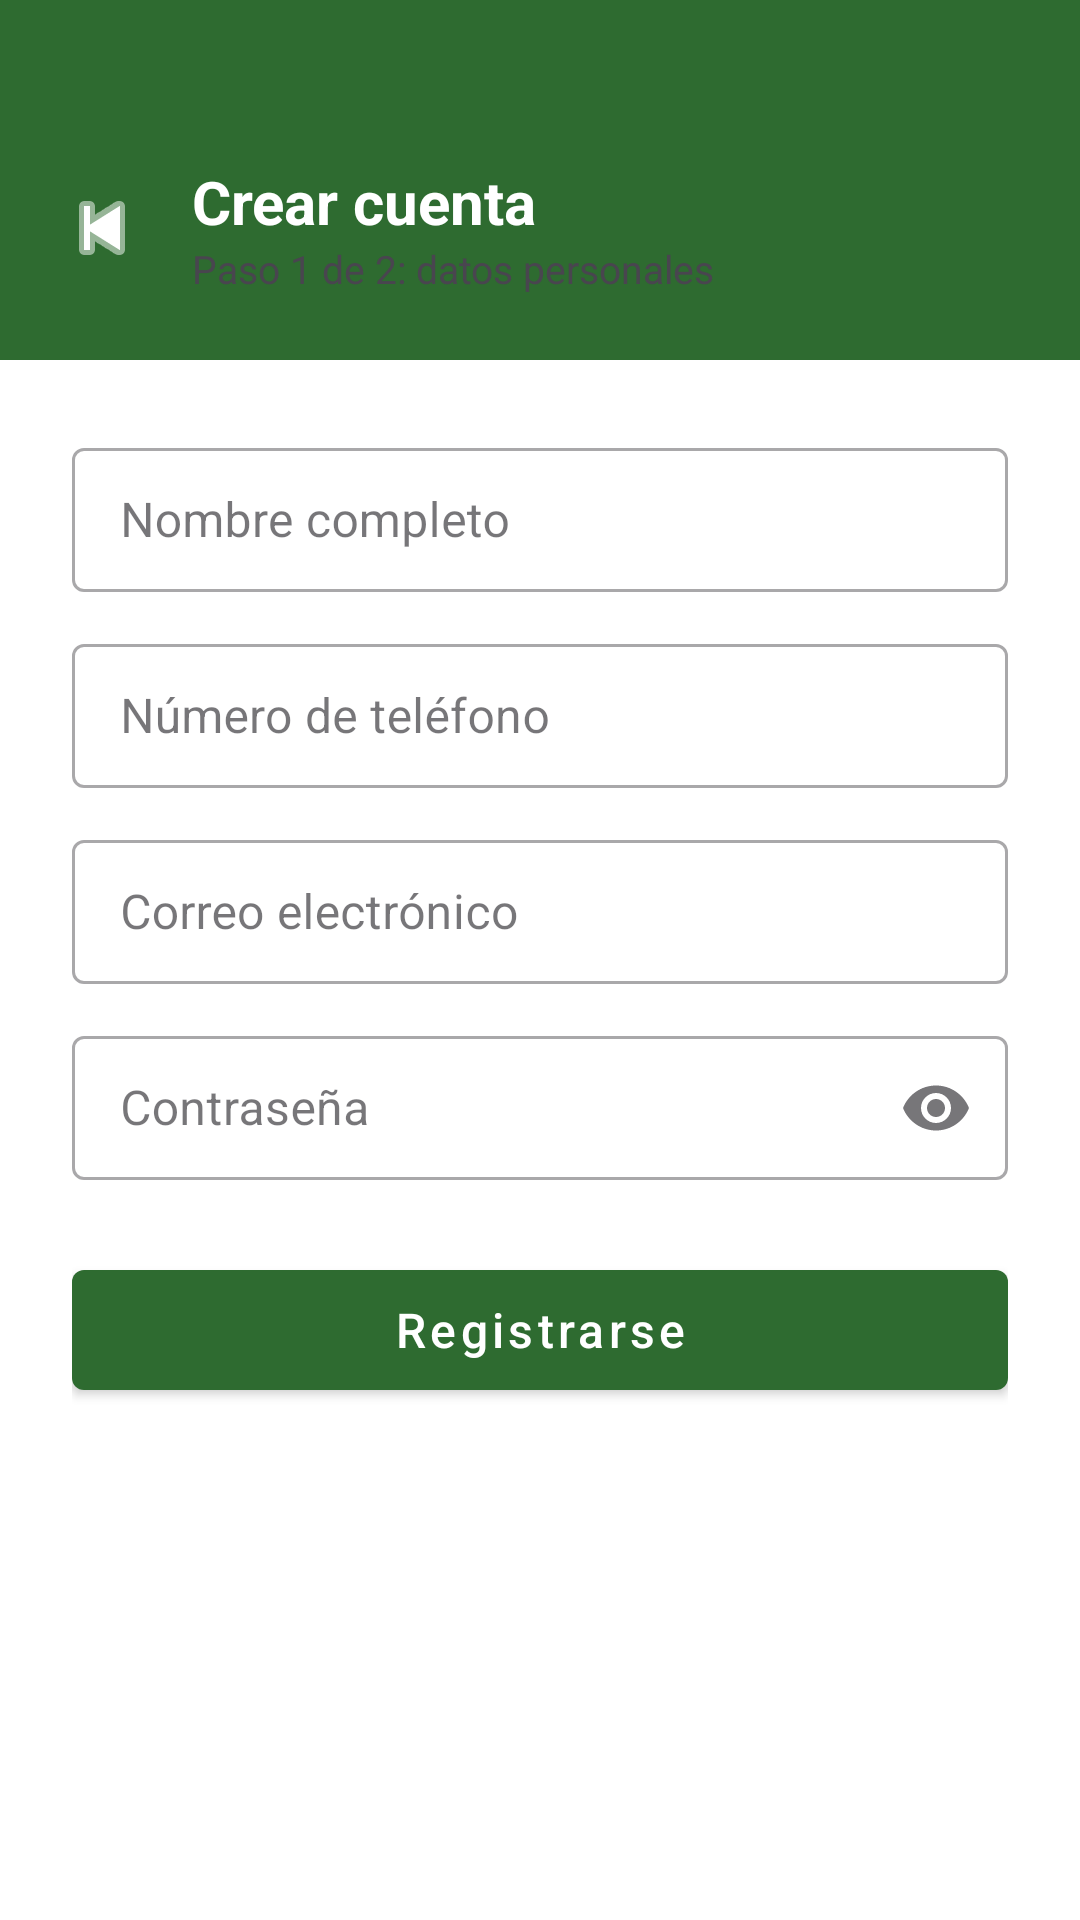

Locate icon controls on the screen. Image size 1080x1920, boxes as BBox(x1, y1, x2, y2).
Volver: BBox(79, 201, 125, 255)
